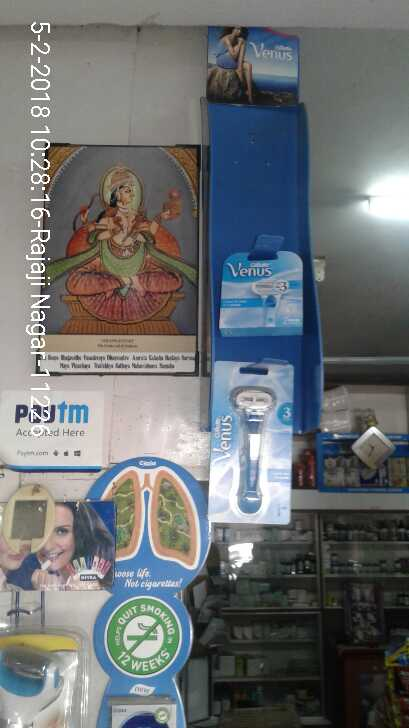venus: (212, 359, 290, 522), (222, 244, 303, 336)
